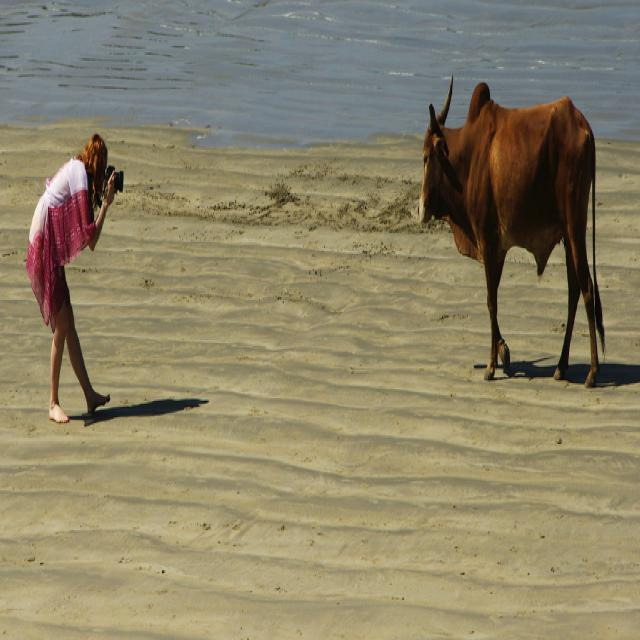Cattle: (418, 73, 608, 392)
